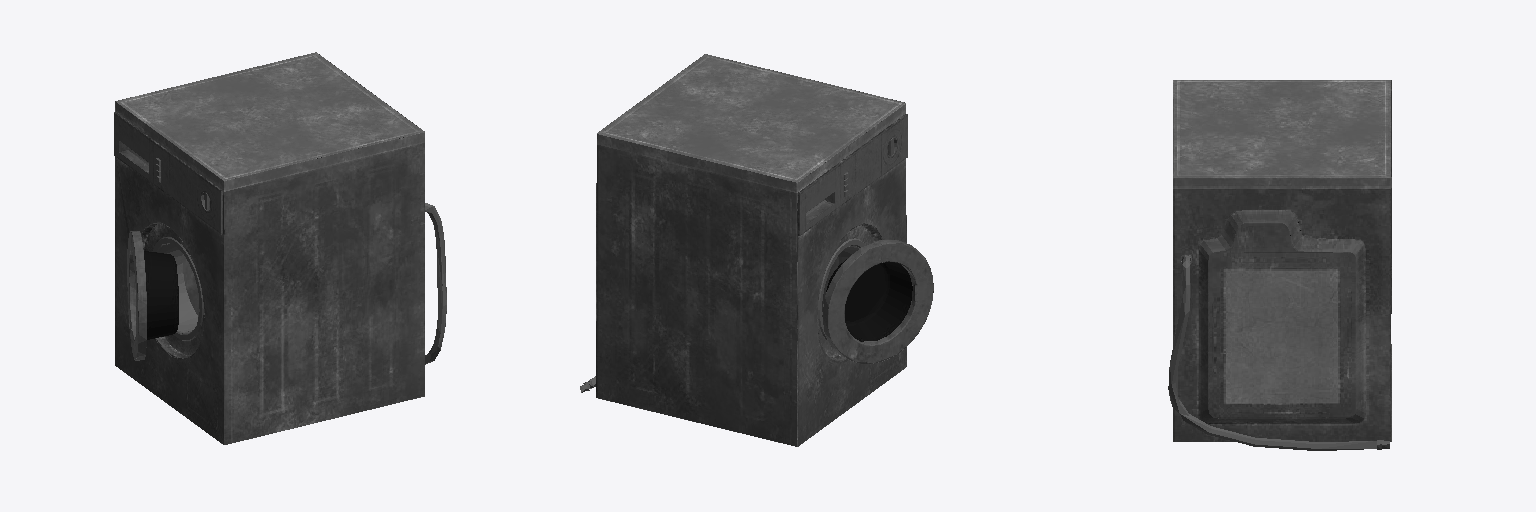
The picture shows the model from 3 angles: view 1: azimuth 30°, elevation 25°; view 2: azimuth 150°, elevation 25°; view 3: azimuth 270°, elevation 25°; orthographic projection.
Visible parts, largest first — view 1: washmachine; view 2: washmachine; view 3: washmachine.
Boxes of the visible parts, x1,y1,x2,y2 form: washmachine: [114, 52, 446, 444]; washmachine: [580, 54, 933, 446]; washmachine: [1168, 80, 1391, 450].
Bounding box in the file's own units: 1.17 × 1.07 × 0.802.
Materials: 1 (1 with a texture image).